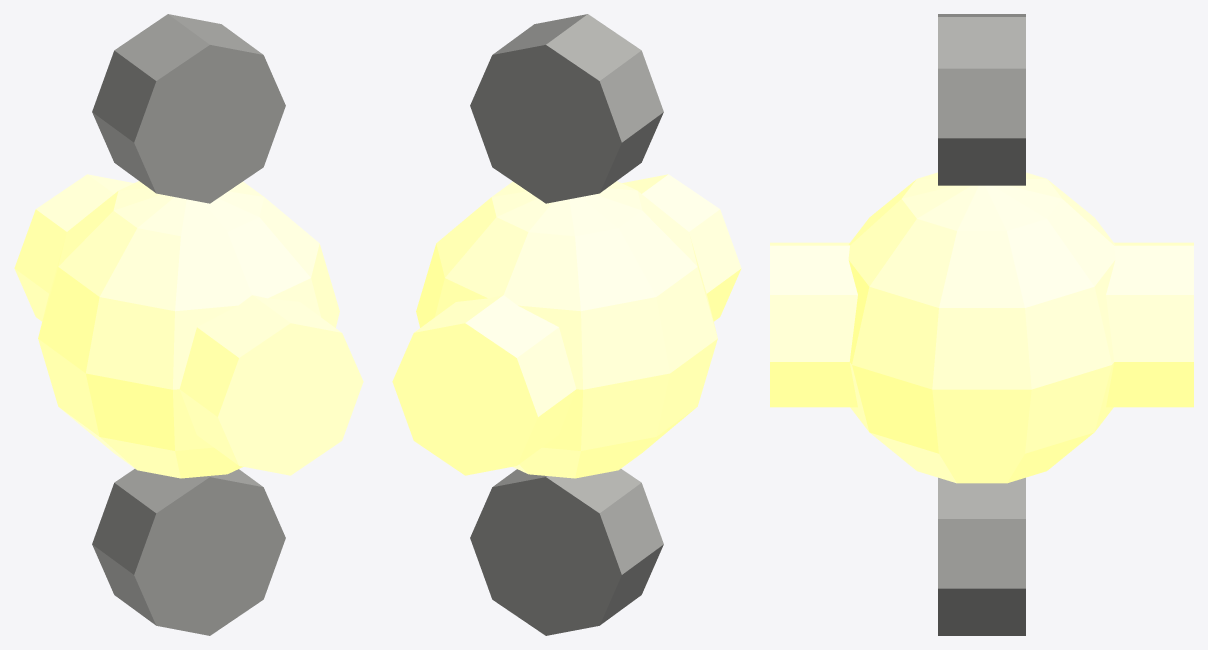
The model's file is fuse.glb.
3 renders of one model, left to right at view 1: azimuth 30°, elevation 25°; view 2: azimuth 150°, elevation 25°; view 3: azimuth 270°, elevation 25°, orthographic. The views are drawn at different scales.
Visible parts, largest first — view 1: glow_hint, fuse_core, cap_r, cap_l; view 2: glow_hint, fuse_core, cap_r, cap_l; view 3: glow_hint, fuse_core, cap_r, cap_l.
Part boxes in pixels (left/top/right/bottom): glow_hint: left=38, top=181, right=339, bottom=478; fuse_core: left=14, top=174, right=363, bottom=475; cap_r: left=92, top=14, right=285, bottom=203; cap_l: left=92, top=469, right=285, bottom=635; glow_hint: left=416, top=181, right=717, bottom=478; fuse_core: left=392, top=174, right=741, bottom=475; cap_r: left=470, top=14, right=663, bottom=203; cap_l: left=470, top=469, right=663, bottom=635; glow_hint: left=848, top=172, right=1115, bottom=483; fuse_core: left=770, top=242, right=1193, bottom=407; cap_r: left=938, top=14, right=1025, bottom=185; cap_l: left=938, top=477, right=1025, bottom=635.
Bounding box in the file's own units: 0.4185 × 0.93 × 0.58.
